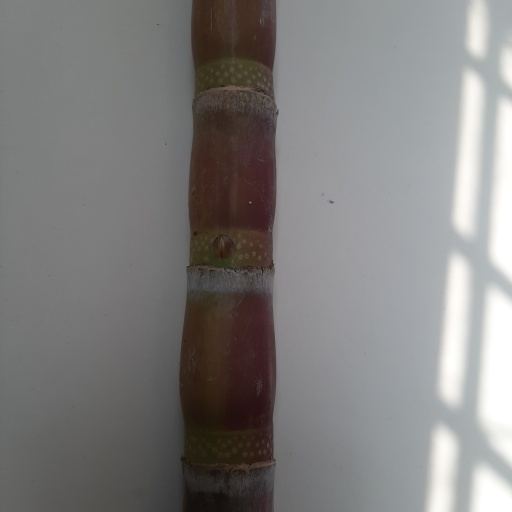Bud: (209, 232, 236, 261)
